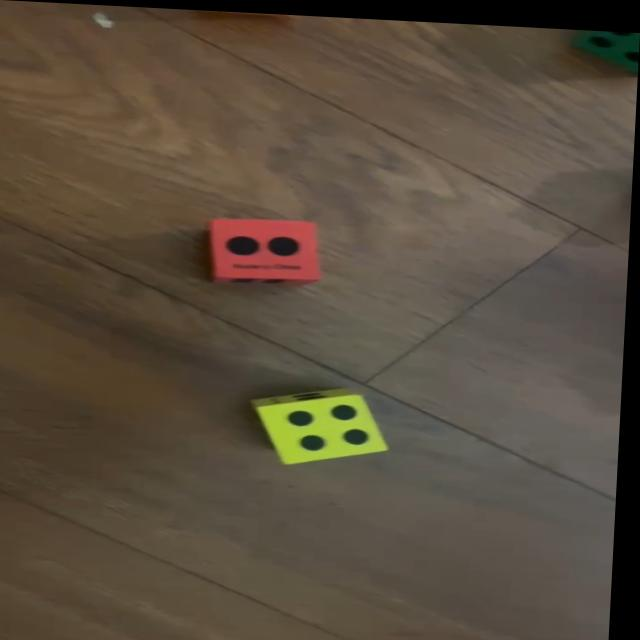red_block: (210, 213, 327, 287)
